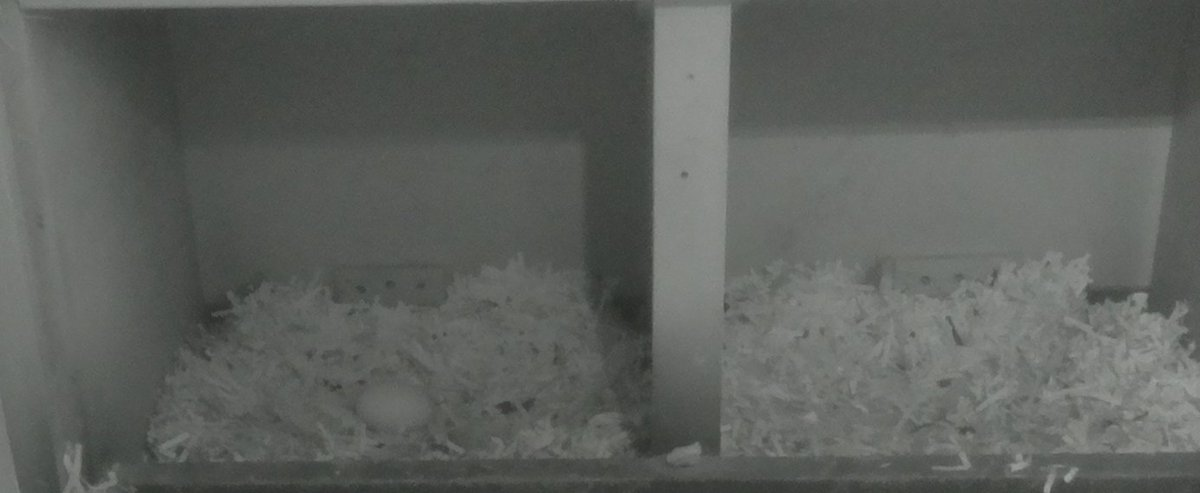egg: (343, 374, 445, 437)
